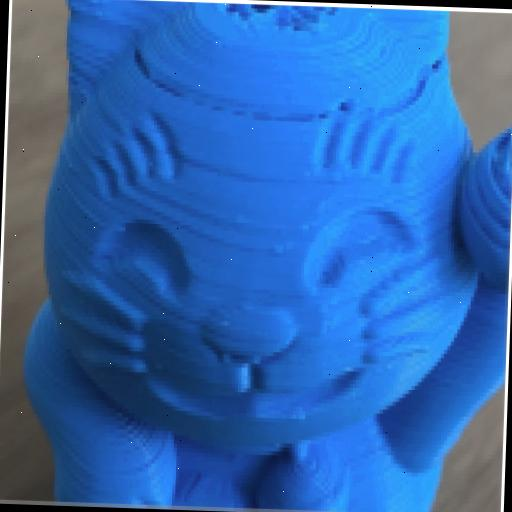cracks: (76, 38, 448, 137)
